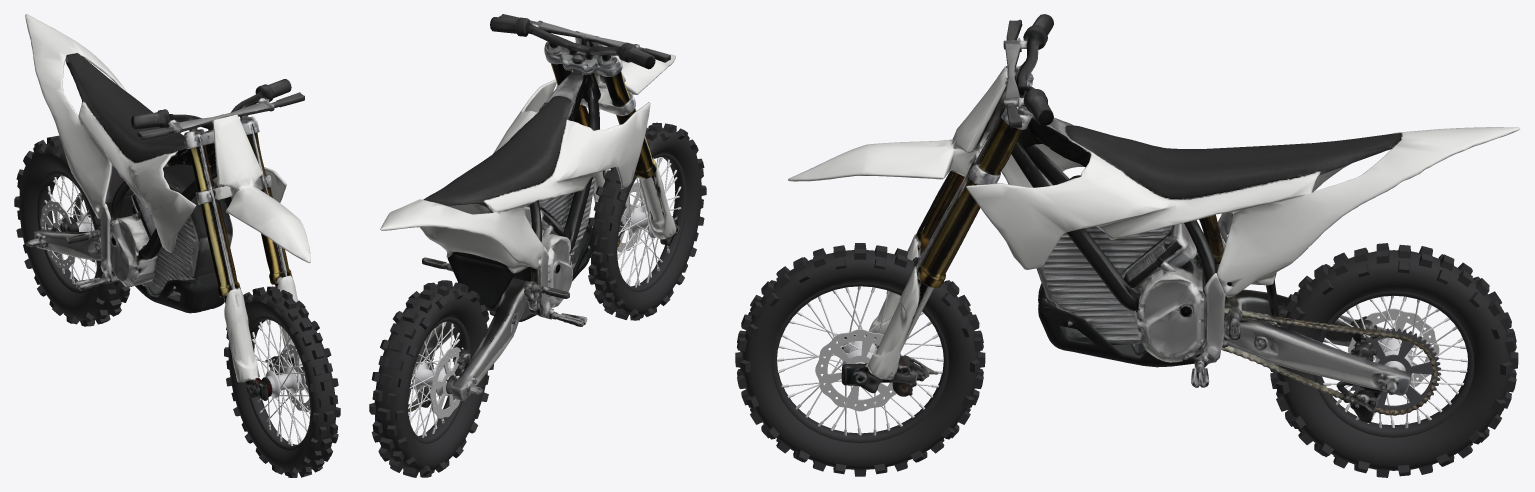
File: dirt_bike_white_lod1.glb
3 renders of one model, left to right at view 1: azimuth 30°, elevation 25°; view 2: azimuth 150°, elevation 25°; view 3: azimuth 270°, elevation 25°, orthographic. The views are drawn at different scales.
Parts seen in each view (by area): view 1: Body, Steering_Mesh, Wheel_F, Wheel_R, ForkLower_Mesh, Swingarm_Mesh; view 2: Body, Wheel_R, Wheel_F, Steering_Mesh, Swingarm_Mesh, ForkLower_Mesh; view 3: Body, Wheel_R, Wheel_F, Steering_Mesh, Swingarm_Mesh, ForkLower_Mesh.
Part boxes in pixels (x1=…): Body: x1=25, y1=14, x2=286, y2=367; Steering_Mesh: x1=131, y1=79, x2=310, y2=286; Wheel_F: x1=224, y1=286, x2=340, y2=477; Wheel_R: x1=14, y1=135, x2=130, y2=326; ForkLower_Mesh: x1=217, y1=269, x2=307, y2=400; Swingarm_Mesh: x1=33, y1=195, x2=131, y2=267; Body: x1=380, y1=54, x2=650, y2=395; Wheel_R: x1=369, y1=280, x2=493, y2=477; Wheel_F: x1=588, y1=122, x2=706, y2=320; Steering_Mesh: x1=490, y1=14, x2=675, y2=171; Swingarm_Mesh: x1=408, y1=268, x2=540, y2=411; ForkLower_Mesh: x1=593, y1=158, x2=679, y2=247; Body: x1=918, y1=106, x2=1519, y2=394; Wheel_R: x1=1270, y1=243, x2=1518, y2=477; Wheel_F: x1=735, y1=243, x2=985, y2=476; Steering_Mesh: x1=788, y1=14, x2=1053, y2=275; Swingarm_Mesh: x1=1215, y1=264, x2=1437, y2=423; ForkLower_Mesh: x1=841, y1=229, x2=945, y2=396.
Size of the model in its own units: 0.6737 by 1.27 by 2.18.
Materials: 7 (1 with a texture image).
